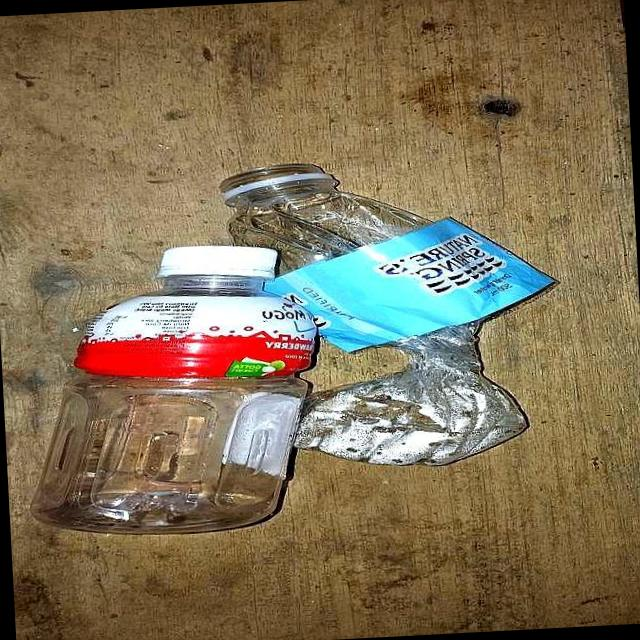Non-biodegradable: (219, 156, 541, 478), (19, 242, 324, 543)
